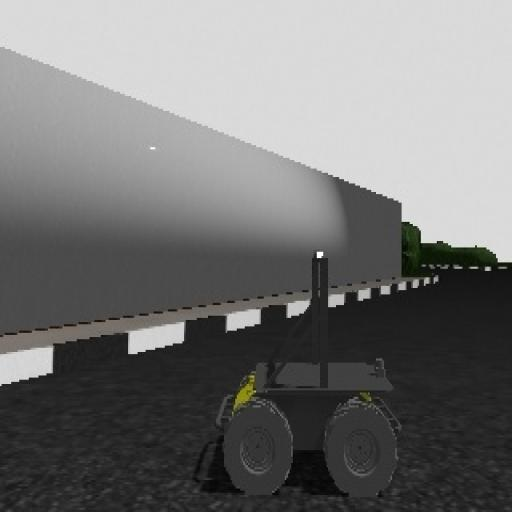huskya200: (202, 235, 408, 495)
